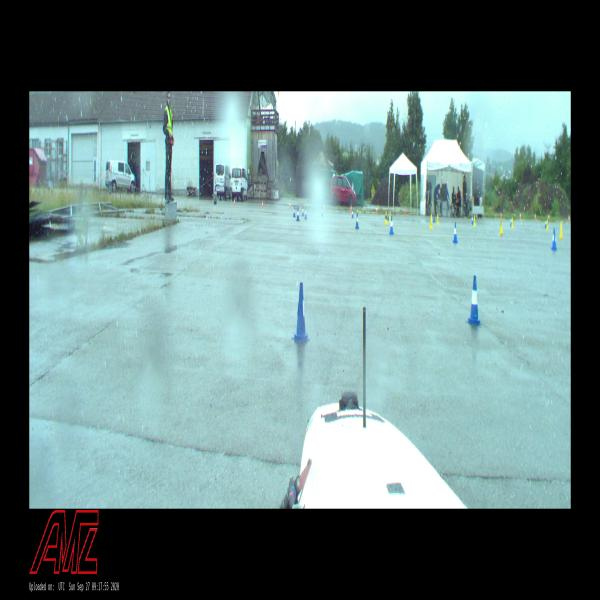blue_cone: (292, 283, 311, 343), (466, 275, 482, 326), (551, 228, 557, 251), (453, 222, 458, 244), (390, 216, 394, 235), (296, 206, 300, 222), (355, 213, 359, 229), (293, 205, 296, 218), (304, 207, 307, 220), (351, 208, 354, 219), (471, 214, 474, 224), (387, 209, 389, 221), (302, 206, 304, 217), (544, 218, 546, 229), (510, 216, 512, 226), (433, 213, 435, 223)
orange_cone: (404, 207, 407, 216), (375, 205, 378, 214), (289, 201, 291, 209), (534, 212, 536, 220), (520, 212, 522, 220), (500, 211, 502, 219), (568, 214, 570, 222), (262, 201, 264, 208), (234, 198, 235, 206)
yellow_cone: (558, 221, 564, 240), (499, 220, 503, 235), (430, 214, 433, 230), (384, 212, 387, 224), (511, 217, 514, 228), (473, 216, 476, 226), (389, 210, 391, 223), (546, 219, 548, 230), (437, 214, 439, 224)
